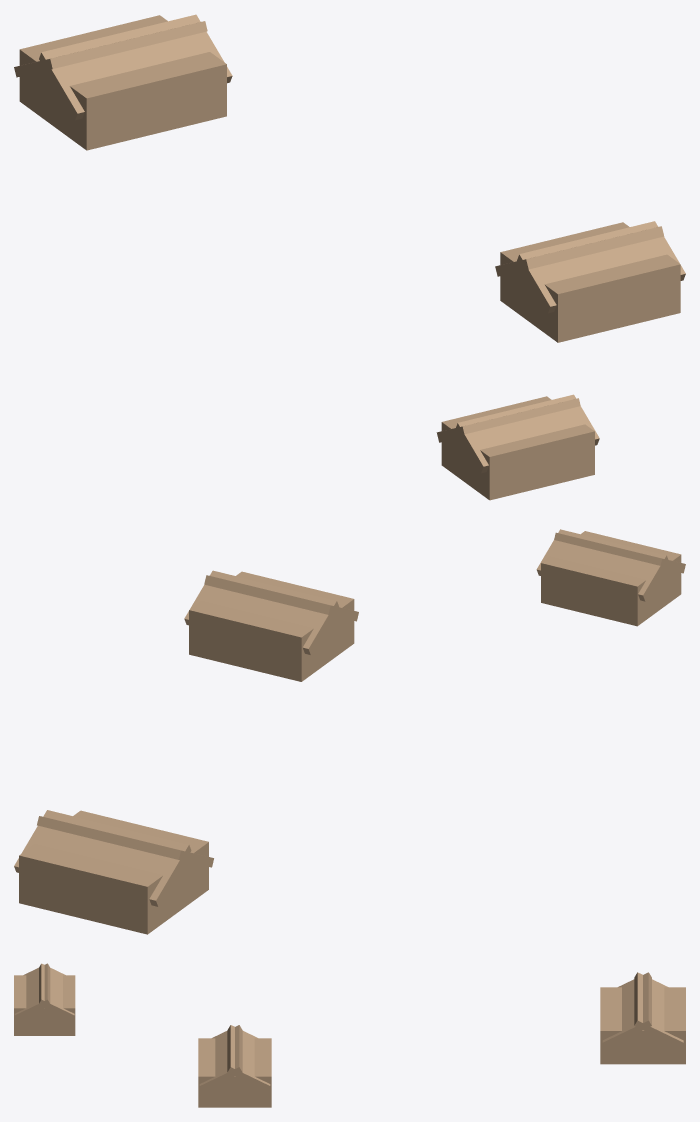
File: SM_Roof_Hamlet.fbx
3 views of the same model, one above another, from view 1: azimuth 30°, elevation 25°; view 2: azimuth 150°, elevation 25°; view 3: azimuth 270°, elevation 25° (orthographic). The views are drawn at different scales.
Visible parts, largest first — view 1: SM_Roof_Hamlet_01_Body, SM_Roof_Hamlet_02_Body, SM_Roof_Hamlet_03_Body, SM_Roof_Hamlet_01_PitchA, SM_Roof_Hamlet_02_PitchA, SM_Roof_Hamlet_03_PitchA, SM_Roof_Hamlet_01_PitchB, SM_Roof_Hamlet_02_PitchB, SM_Roof_Hamlet_03_PitchB; view 2: SM_Roof_Hamlet_01_Body, SM_Roof_Hamlet_02_Body, SM_Roof_Hamlet_03_Body, SM_Roof_Hamlet_01_PitchB, SM_Roof_Hamlet_02_PitchB, SM_Roof_Hamlet_03_PitchB, SM_Roof_Hamlet_01_PitchA, SM_Roof_Hamlet_02_PitchA, SM_Roof_Hamlet_03_PitchA; view 3: SM_Roof_Hamlet_01_Body, SM_Roof_Hamlet_02_Body, SM_Roof_Hamlet_03_Body, SM_Roof_Hamlet_01_PitchA, SM_Roof_Hamlet_01_PitchB, SM_Roof_Hamlet_02_PitchA, SM_Roof_Hamlet_02_PitchB, SM_Roof_Hamlet_03_PitchA, SM_Roof_Hamlet_03_PitchB.
Boxes of the visible parts, x1,y1,x2,y2 form: SM_Roof_Hamlet_01_Body: [19, 15, 226, 150]; SM_Roof_Hamlet_02_Body: [500, 222, 680, 342]; SM_Roof_Hamlet_03_Body: [441, 396, 594, 500]; SM_Roof_Hamlet_01_PitchA: [39, 14, 232, 120]; SM_Roof_Hamlet_02_PitchA: [517, 221, 685, 313]; SM_Roof_Hamlet_03_PitchA: [455, 394, 599, 473]; SM_Roof_Hamlet_01_PitchB: [14, 21, 207, 77]; SM_Roof_Hamlet_02_PitchB: [495, 226, 664, 276]; SM_Roof_Hamlet_03_PitchB: [436, 398, 580, 442]; SM_Roof_Hamlet_01_Body: [19, 810, 208, 934]; SM_Roof_Hamlet_02_Body: [189, 571, 354, 681]; SM_Roof_Hamlet_03_Body: [541, 531, 681, 626]; SM_Roof_Hamlet_01_PitchB: [14, 810, 191, 906]; SM_Roof_Hamlet_02_PitchB: [184, 570, 338, 654]; SM_Roof_Hamlet_03_PitchB: [536, 529, 668, 601]; SM_Roof_Hamlet_01_PitchA: [37, 816, 213, 867]; SM_Roof_Hamlet_02_PitchA: [204, 575, 358, 621]; SM_Roof_Hamlet_03_PitchA: [554, 532, 685, 573]; SM_Roof_Hamlet_01_Body: [600, 987, 685, 1064]; SM_Roof_Hamlet_02_Body: [198, 1038, 271, 1107]; SM_Roof_Hamlet_03_Body: [14, 975, 75, 1035]; SM_Roof_Hamlet_01_PitchA: [602, 972, 651, 1047]; SM_Roof_Hamlet_01_PitchB: [634, 972, 683, 1047]; SM_Roof_Hamlet_02_PitchA: [199, 1025, 242, 1091]; SM_Roof_Hamlet_02_PitchB: [227, 1025, 270, 1091]; SM_Roof_Hamlet_03_PitchA: [14, 963, 50, 1020]; SM_Roof_Hamlet_03_PitchB: [39, 963, 74, 1020].
Bounding box in the file's own units: 24.7 × 9.41 × 1.87.
